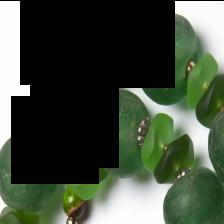green: (138, 12, 197, 104), (52, 20, 114, 105), (91, 89, 149, 177), (0, 130, 58, 211), (164, 166, 224, 224), (72, 126, 108, 183), (154, 133, 194, 183), (38, 79, 77, 128), (119, 11, 147, 71), (196, 73, 224, 127), (209, 107, 224, 183)
